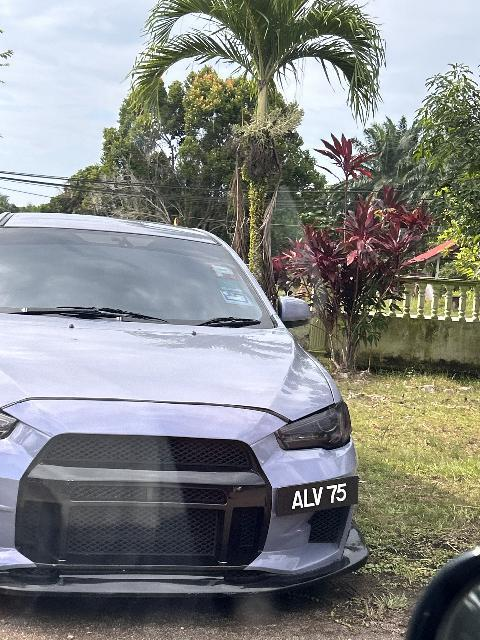ALV75: (275, 475, 359, 519)
License_Plate: (275, 475, 359, 519)
car: (1, 206, 385, 601)
